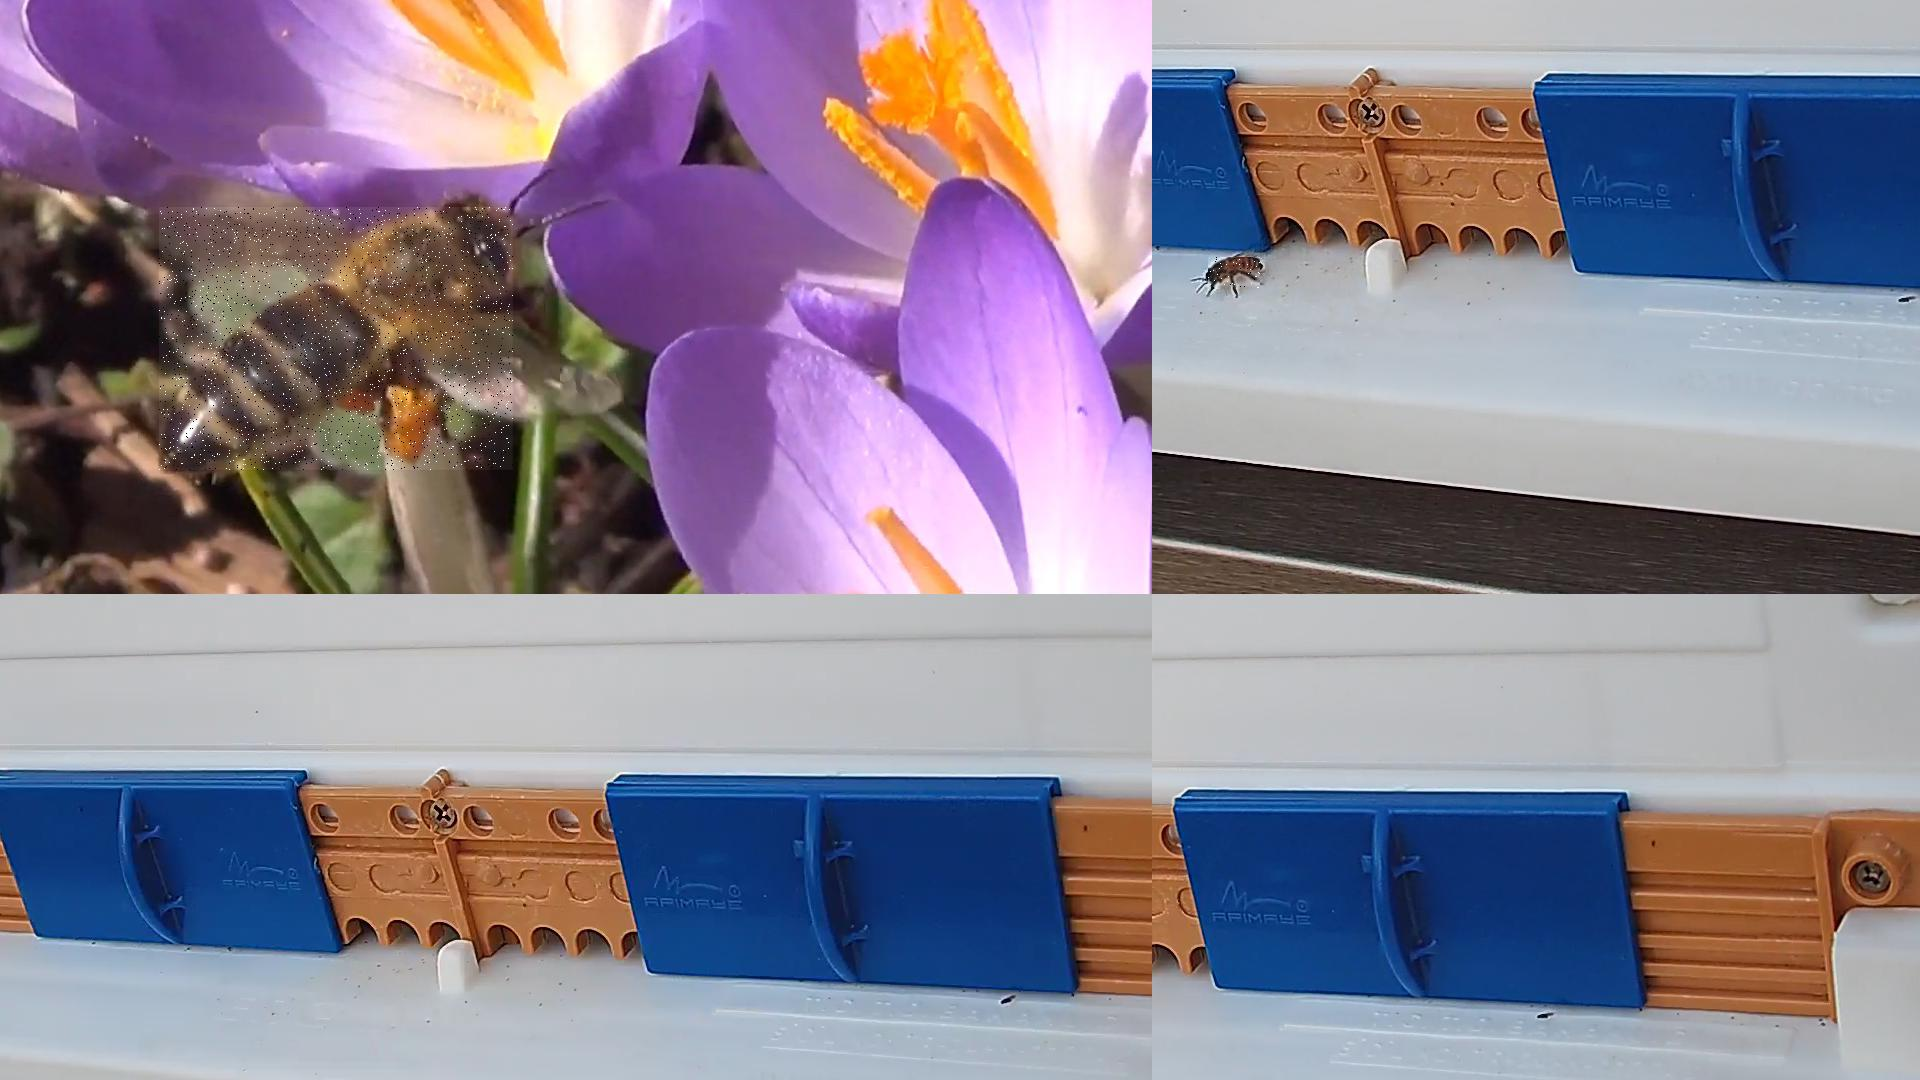bee: (1208, 258, 1262, 290)
pollenbee: (160, 207, 514, 471)
